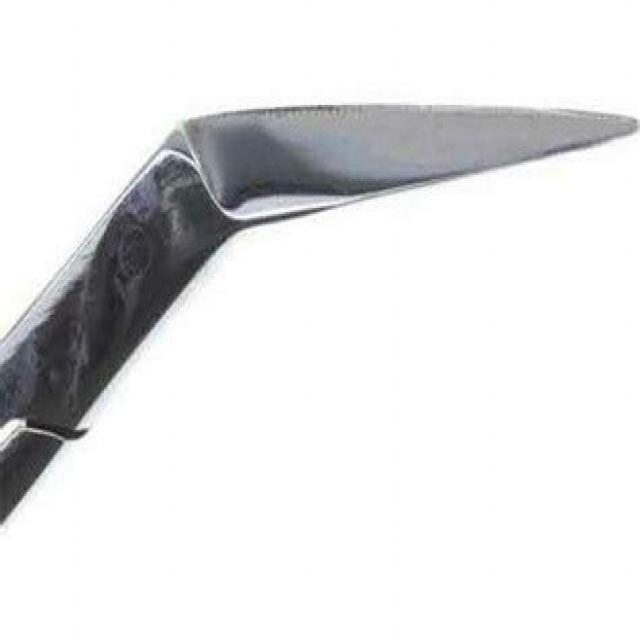Potts: (0, 94, 639, 534)
